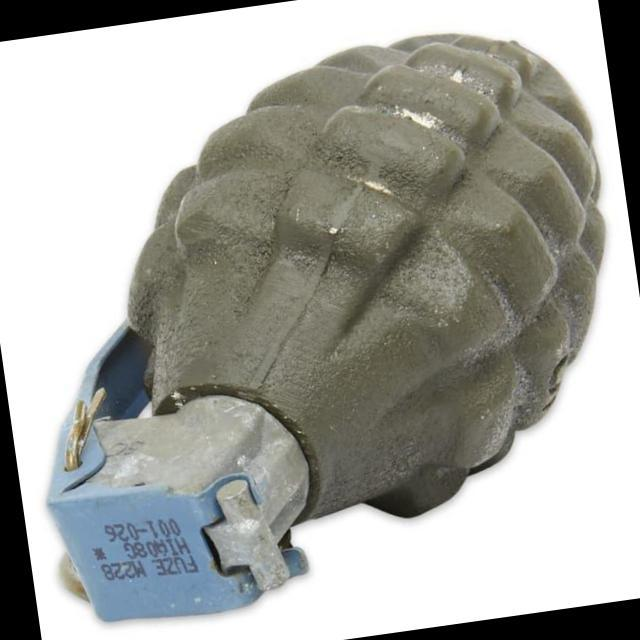grenade: (0, 3, 640, 640)
